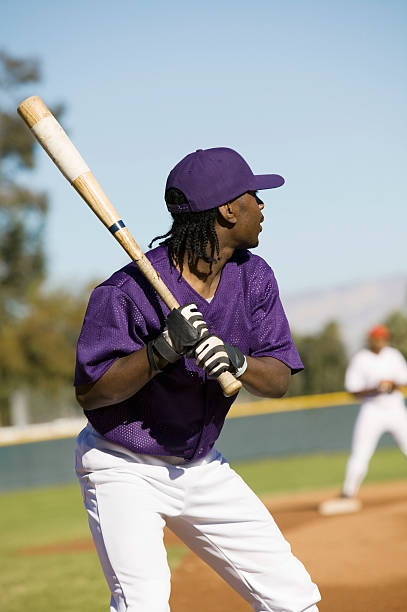bita: (17, 92, 229, 378)
